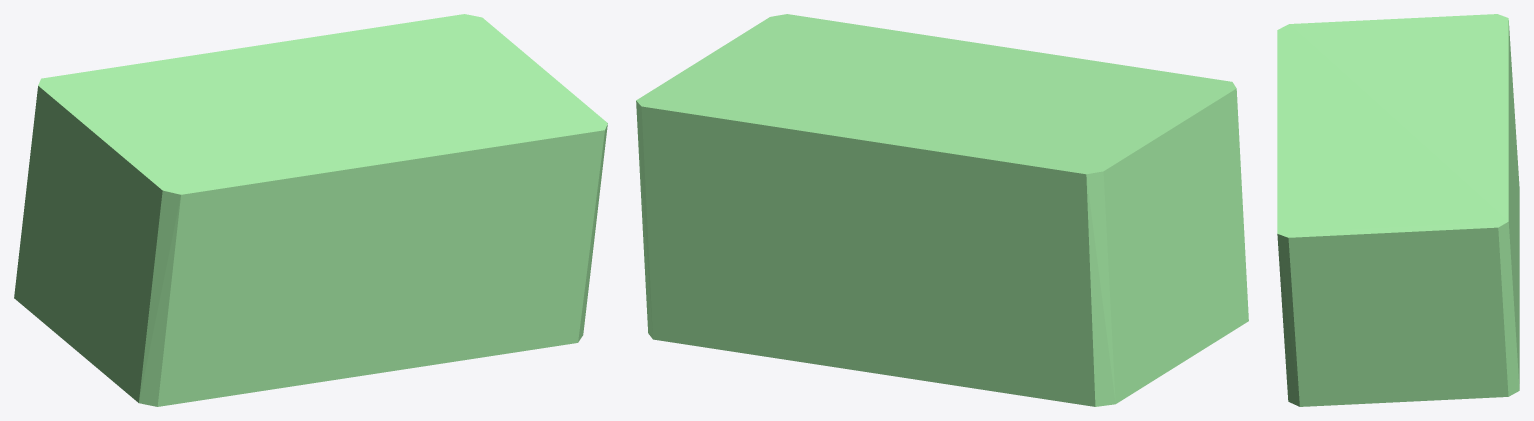
Rendered from UMIRobot_UMIRobot_link_5_convex_coll_58.dae.
3 views of the same model, side by side, from view 1: azimuth 30°, elevation 25°; view 2: azimuth 150°, elevation 25°; view 3: azimuth 270°, elevation 25° (orthographic). The views are drawn at different scales.
Parts seen in each view (by area): view 1: node; view 2: node; view 3: node.
Boxes of the visible parts, x1,y1,x2,y2 form: node: (14, 14, 607, 406); node: (636, 14, 1248, 406); node: (1277, 14, 1519, 406).
Bounding box in the file's own units: 0.0234 × 0.0128 × 0.0128.
